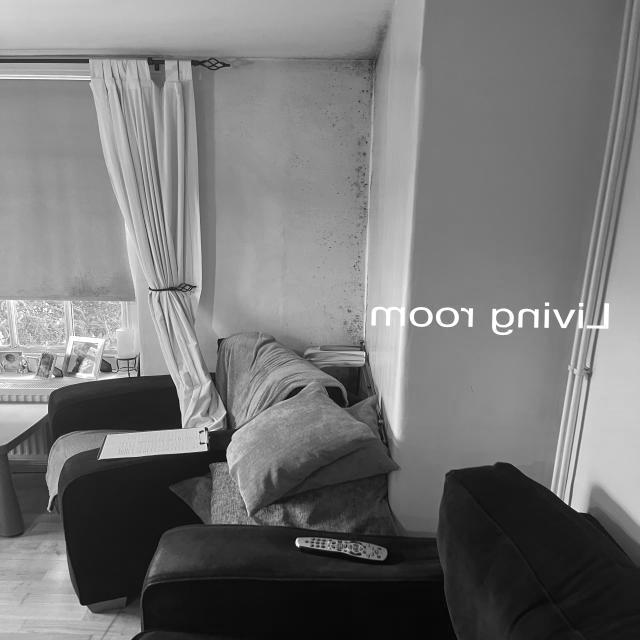stain marks: (284, 14, 375, 346)
